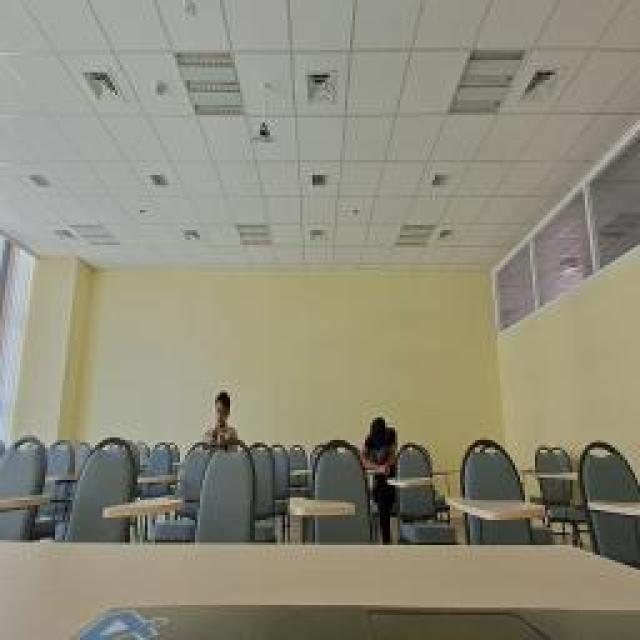phone: (358, 418, 398, 478)
study: (202, 390, 238, 455)
